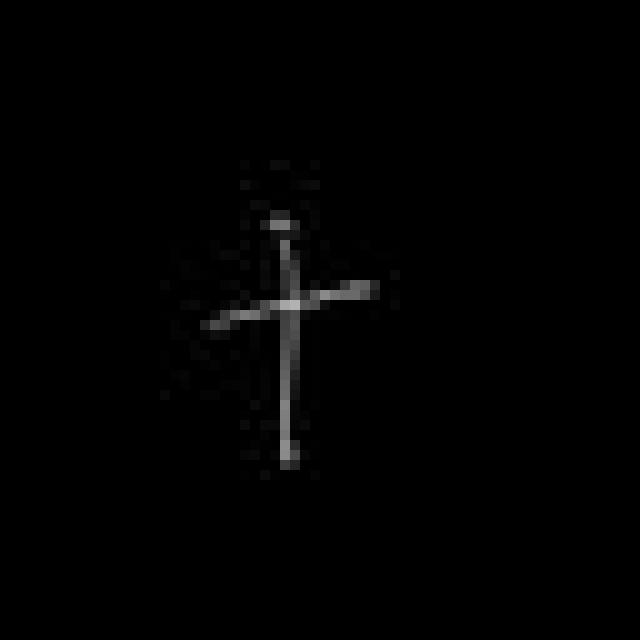1000 -a thousand-: (198, 208, 379, 483)
